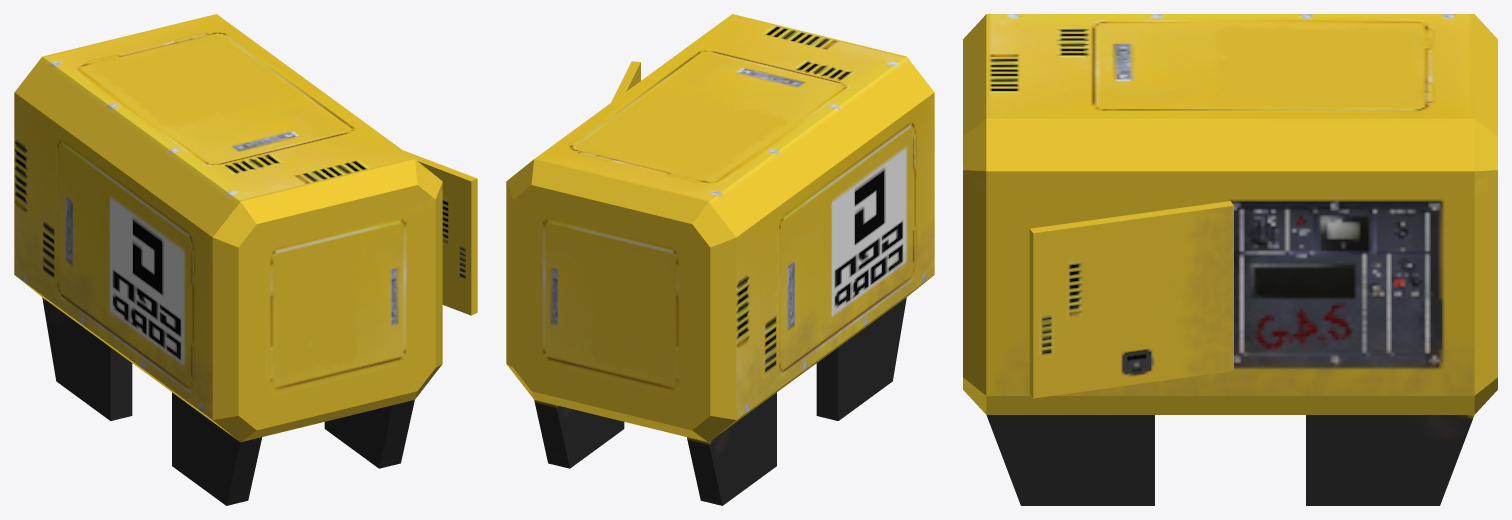
The model's file is generator.fbx.
3 renders of one model, left to right at view 1: azimuth 30°, elevation 25°; view 2: azimuth 150°, elevation 25°; view 3: azimuth 270°, elevation 25°, orthographic. The views are drawn at different scales.
Parts seen in each view (by area): view 1: Cube.002, Cube.004, Cube.005; view 2: Cube.002, Cube.004, Cube.005; view 3: Cube.002, Cube.005, Cube.004.
Boxes of the visible parts, left/top/right/bottom form: Cube.002: left=14, top=14, right=442, bottom=442; Cube.004: left=42, top=297, right=414, bottom=505; Cube.005: left=403, top=150, right=477, bottom=315; Cube.002: left=506, top=14, right=934, bottom=442; Cube.004: left=534, top=297, right=906, bottom=505; Cube.005: left=611, top=61, right=640, bottom=102; Cube.002: left=963, top=14, right=1497, bottom=414; Cube.005: left=1029, top=201, right=1233, bottom=398; Cube.004: left=986, top=415, right=1474, bottom=505.
Bounding box in the file's own units: 247 × 261 × 327.
